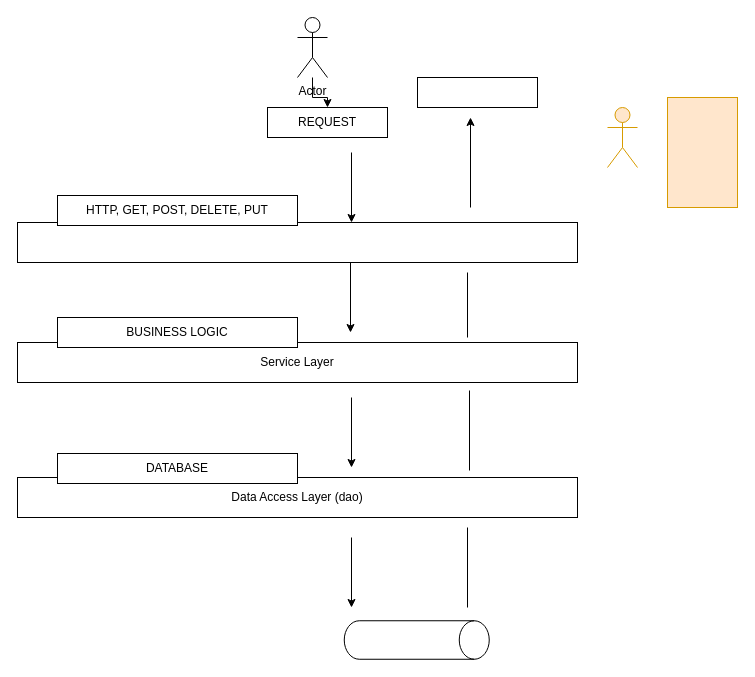
This 755x677 diagram has some shape labels left out. The centre of each missing label's shape, as x and y in pixels:
"API Layer / Controller Layer" goes at (297,242).
"Attributes - ID - Name -Gender -Address -Age -DOB" goes at (702,152).
"RESPONSE" goes at (477,92).
"Student" goes at (622,137).
